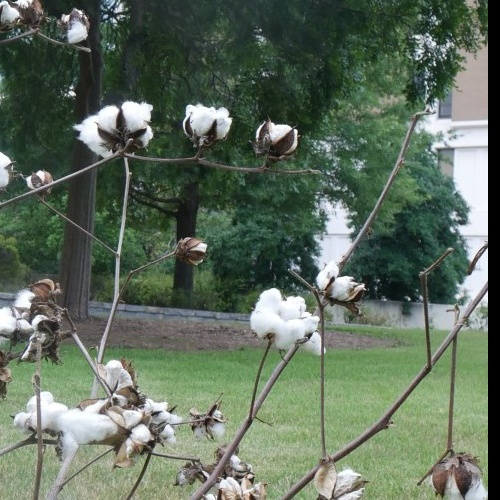immature_boll: (0, 0, 111, 62), (14, 288, 78, 355)
mature_boll: (20, 361, 175, 472), (248, 282, 338, 385), (251, 101, 334, 193), (66, 97, 158, 175), (176, 95, 243, 150)
